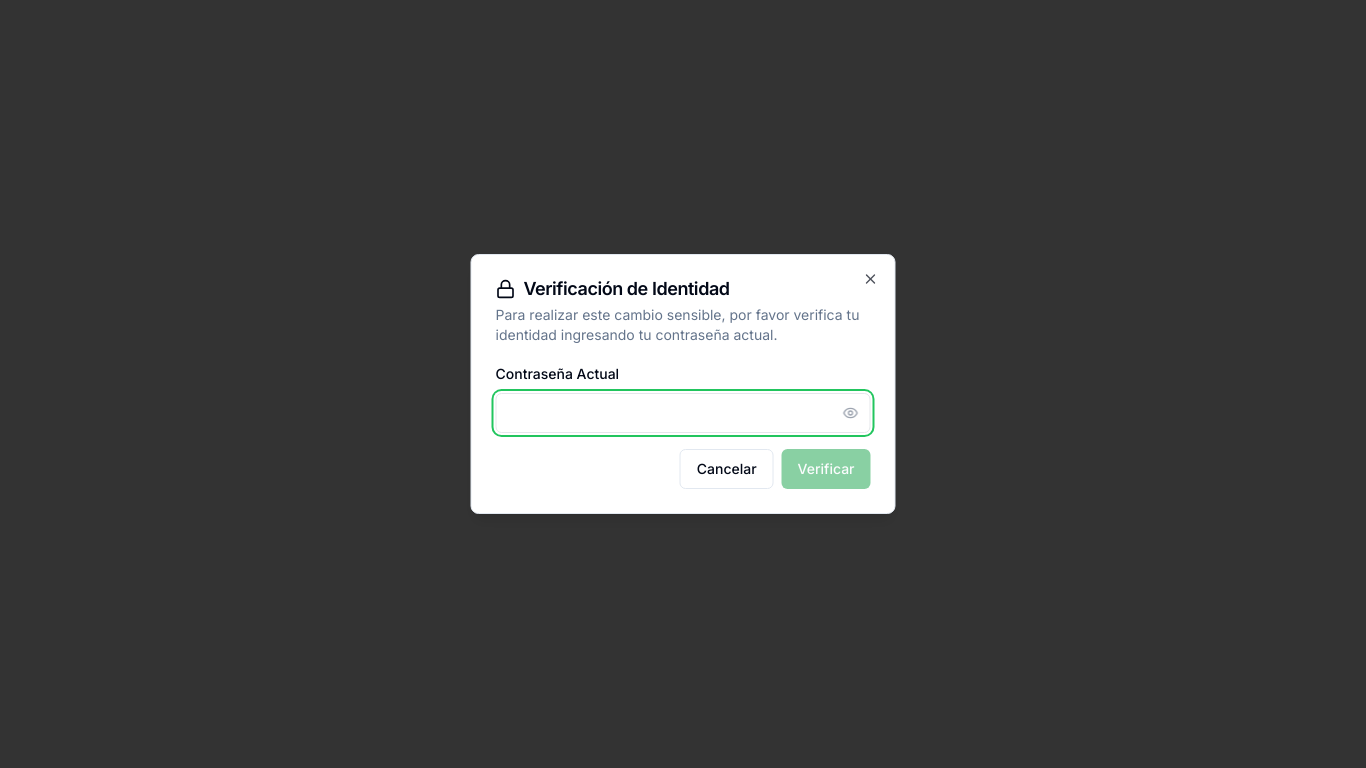
Test: VerifyPasswordDialog › debe manejar errores de red
This screenshot has width=1366, height=768.
In the password field labelled "Contraseña Actual": (683, 413) [496,393,870,433], type "password123"
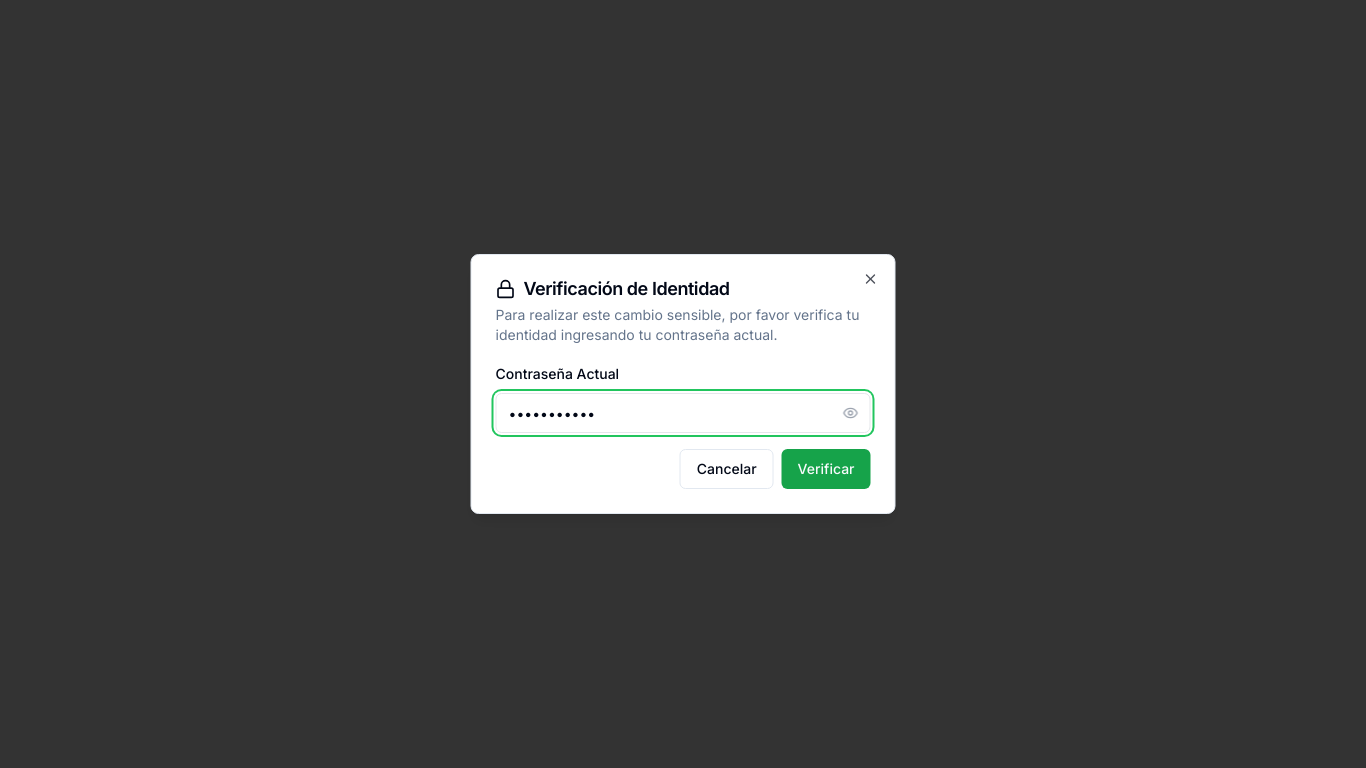
Click the button "Verificar": click(826, 469) [782,449,870,489]
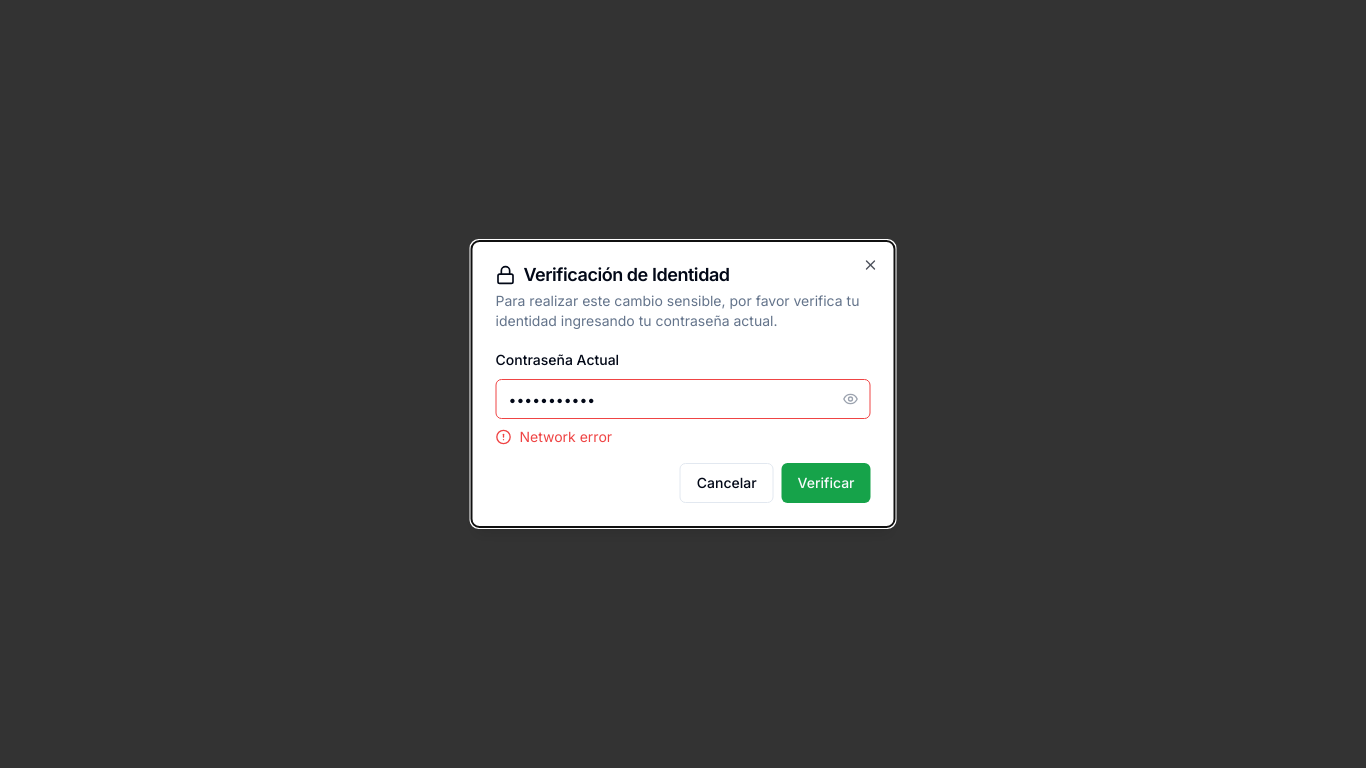
Expected: the text "Network error" is shown, [496,428,612,445]
